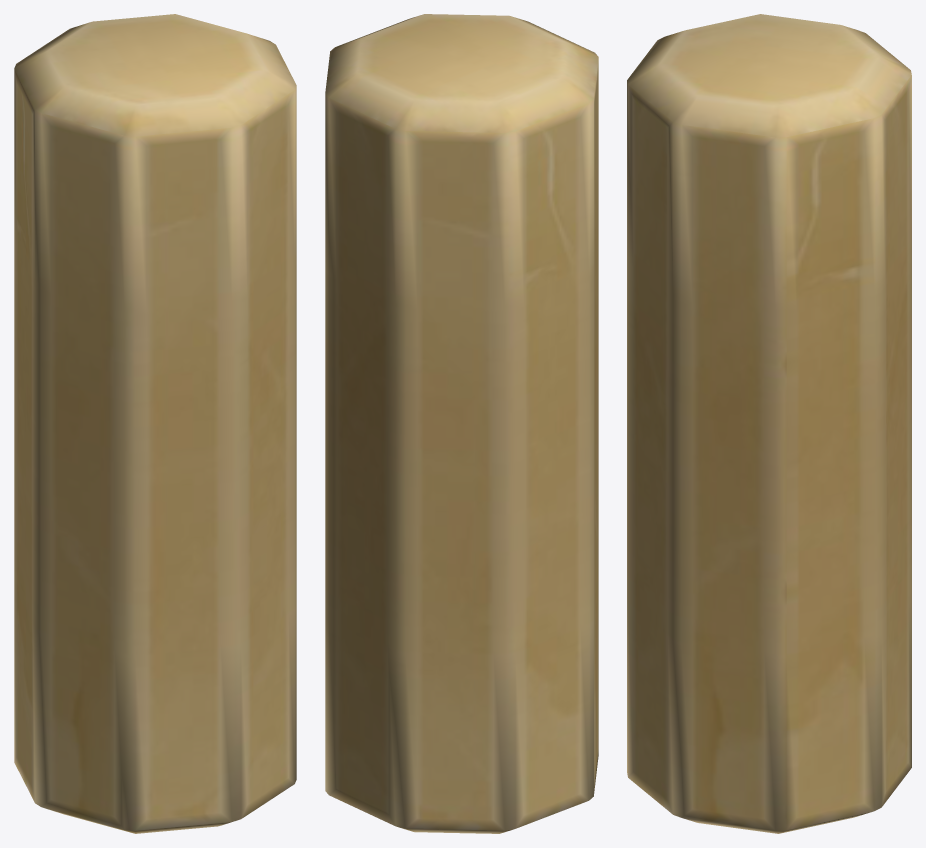
Rendered from DE_House_Mod_Part_95.fbx.
3 views of the same model, side by side, from view 1: azimuth 30°, elevation 25°; view 2: azimuth 150°, elevation 25°; view 3: azimuth 270°, elevation 25° (orthographic).
Visible parts, largest first — view 1: DE_House_Mod_Part_95; view 2: DE_House_Mod_Part_95; view 3: DE_House_Mod_Part_95.
Part boxes in pixels (<box>): DE_House_Mod_Part_95: <box>14,14,296,833</box>; DE_House_Mod_Part_95: <box>325,14,598,833</box>; DE_House_Mod_Part_95: <box>627,14,911,833</box>.
Bounding box in the file's own units: 0.9652 × 2.72 × 0.9652.
